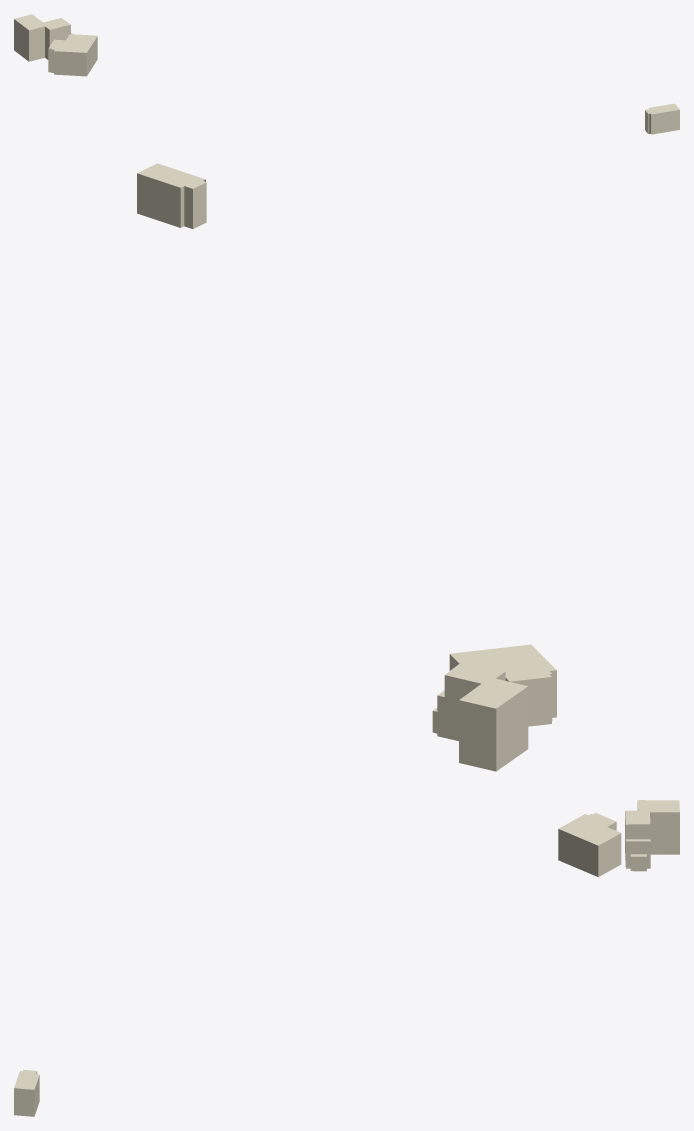
The model's file is pearl.glb.
3 views of the same model, one above another, from view 1: azimuth 30°, elevation 25°; view 2: azimuth 150°, elevation 25°; view 3: azimuth 270°, elevation 25° (orthographic). The views are drawn at different scales.
Parts seen in each view (by area): view 1: Shape 36, Shape 38, bldg1, Shape 37, Shape 10; view 2: Shape 38, Shape 36, bldg1, Shape 10, Shape 37; view 3: Shape 36, Shape 38, bldg1, Shape 10, Shape 37.
Part boxes in pixels (x1,y1,x2,y2): Shape 36: (48, 34, 97, 76); Shape 38: (14, 14, 70, 41); bldg1: (645, 103, 679, 134); Shape 37: (14, 30, 72, 51); Shape 10: (14, 40, 48, 61); Shape 38: (444, 661, 528, 731); Shape 36: (449, 644, 556, 726); bldg1: (137, 163, 206, 228); Shape 10: (432, 707, 528, 771); Shape 37: (437, 690, 528, 750); Shape 36: (558, 813, 621, 877); Shape 38: (625, 800, 679, 839); bldg1: (14, 1070, 39, 1116); Shape 10: (625, 840, 679, 871); Shape 37: (625, 827, 679, 854).
Size of the model in its own units: 5.24 by 0.3742 by 5.36.
